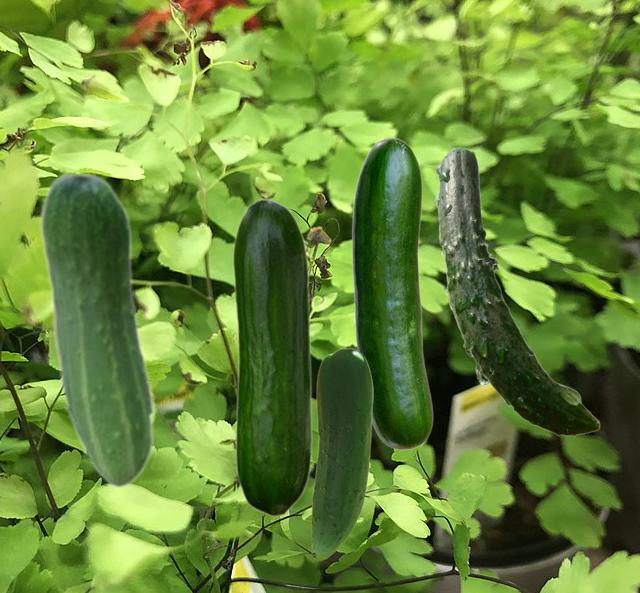cucumber: (434, 147, 599, 435), (39, 170, 155, 488), (232, 198, 312, 516), (351, 137, 432, 449), (311, 348, 372, 559)
